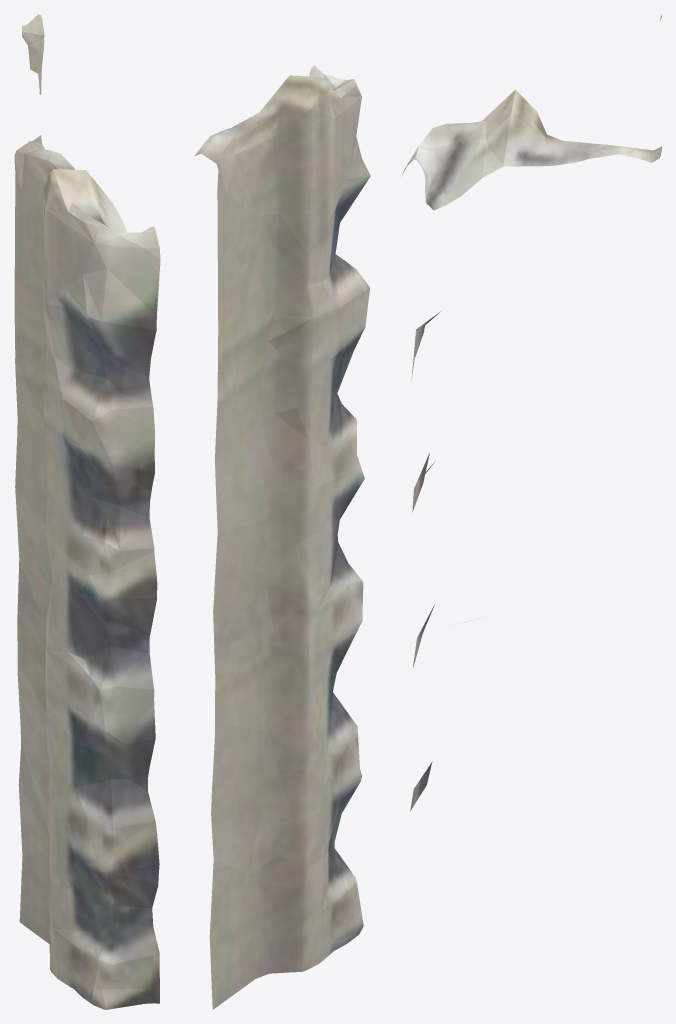
The model's file is Tile_+003_+000_L21_0003220.glb.
3 views of the same model, side by side, from view 1: azimuth 30°, elevation 25°; view 2: azimuth 150°, elevation 25°; view 3: azimuth 270°, elevation 25° (orthographic). The views are drawn at different scales.
Visible parts, largest first — view 1: rtc; view 2: rtc; view 3: rtc.
Boxes of the visible parts, bbox=[...] form: rtc: bbox=[14, 14, 160, 1009]; rtc: bbox=[194, 65, 370, 1009]; rtc: bbox=[401, 14, 661, 811].
Size of the model in its own units: 1.07 by 14.54 by 3.48.
Materials: 1 (1 with a texture image).
